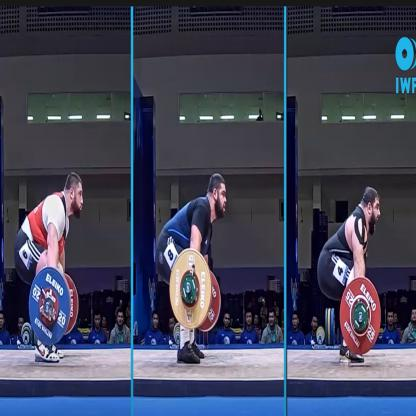Barbell: (164, 242, 217, 336), (336, 270, 386, 362), (25, 262, 74, 351)
